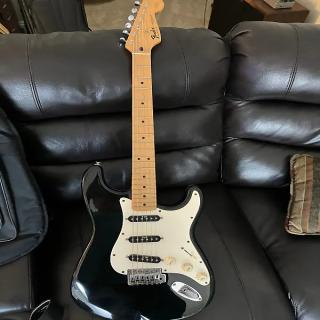Fender Stratocaster: (65, 1, 226, 320)
SSS: (123, 210, 169, 273)
